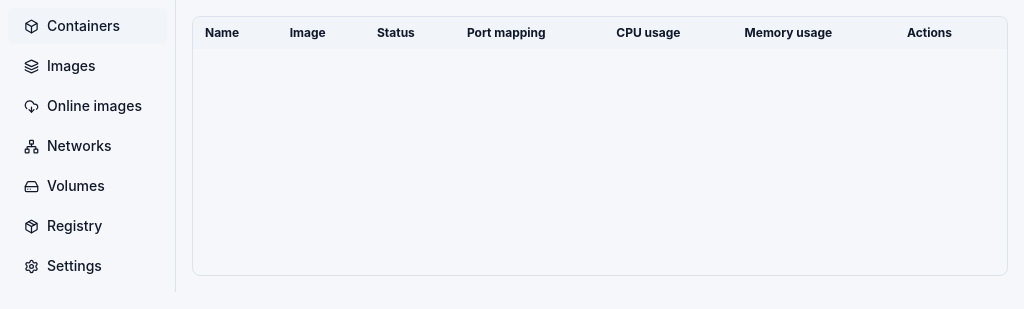
Test: DockerPanel › shows empty state when there are no images
Step 1. Click the tab with id "docker-tab-images" → (88, 66), box [8, 48, 167, 84]
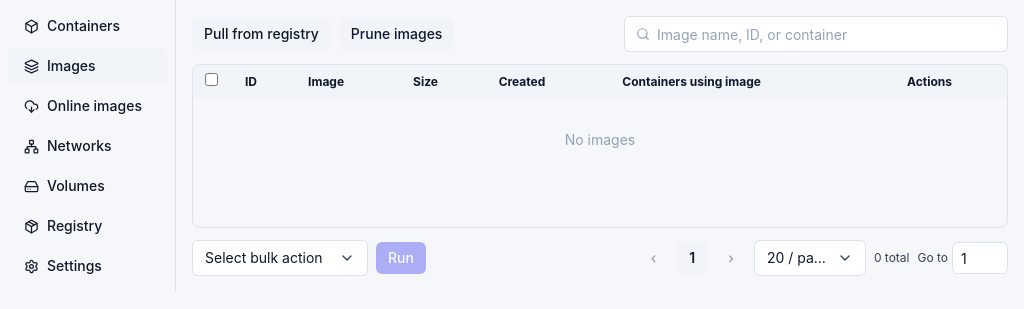
Result: the text "No images" is shown at [193, 98, 1007, 182]
